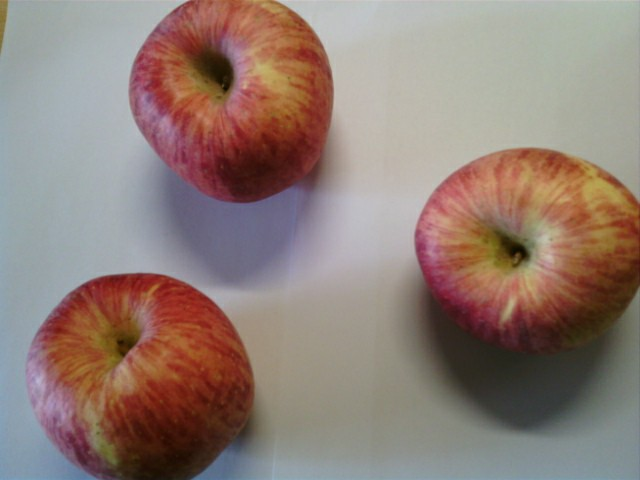normal_apple: (24, 271, 258, 480), (415, 146, 640, 357), (126, 1, 337, 205)
